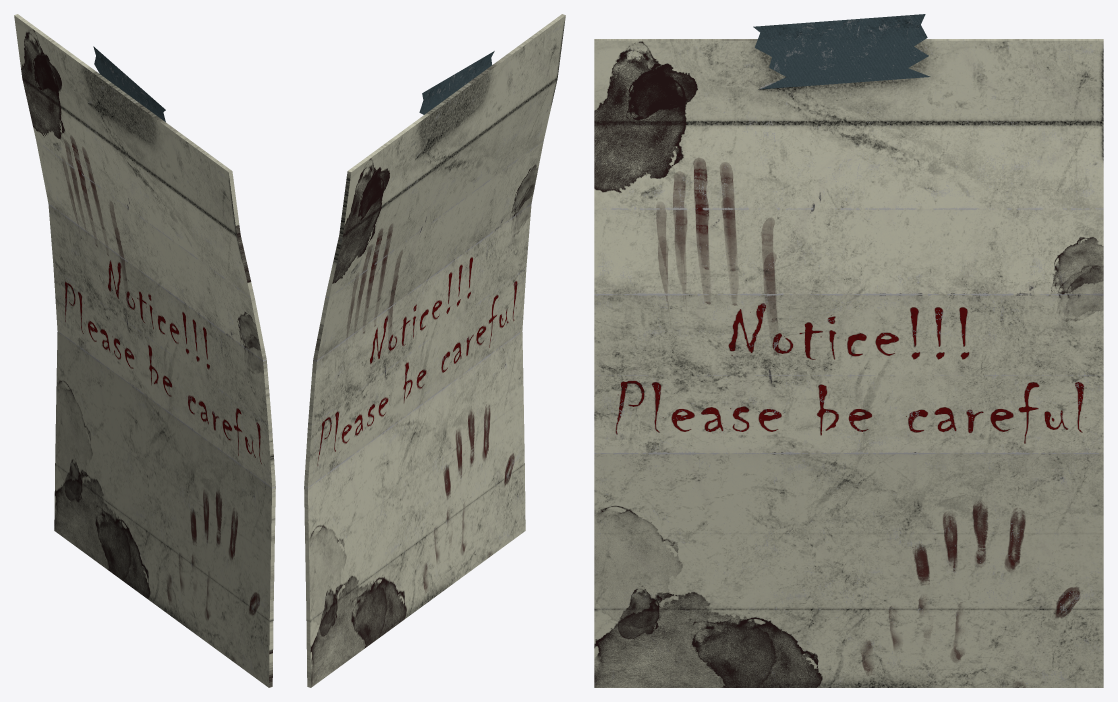
The model's file is note2.FBX.
3 renders of one model, left to right at view 1: azimuth 30°, elevation 25°; view 2: azimuth 150°, elevation 25°; view 3: azimuth 270°, elevation 25°, orthographic. The views are drawn at different scales.
Visible parts, largest first — view 1: Note01, Note; view 2: Note01, Note; view 3: Note01, Note.
Boxes of the visible parts, x1,y1,x2,y2 form: Note01: [14, 14, 275, 687]; Note: [93, 46, 165, 121]; Note01: [304, 14, 565, 687]; Note: [419, 51, 494, 114]; Note01: [594, 39, 1103, 687]; Note: [753, 14, 930, 89].
Size of the model in its own units: 9.9 by 110 by 78.09.
1 material, 1 textured.
